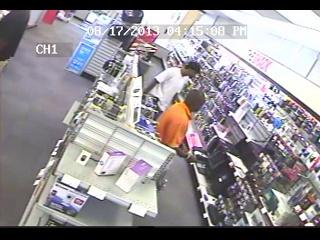Normal: (156, 89, 206, 161), (142, 61, 202, 112)
